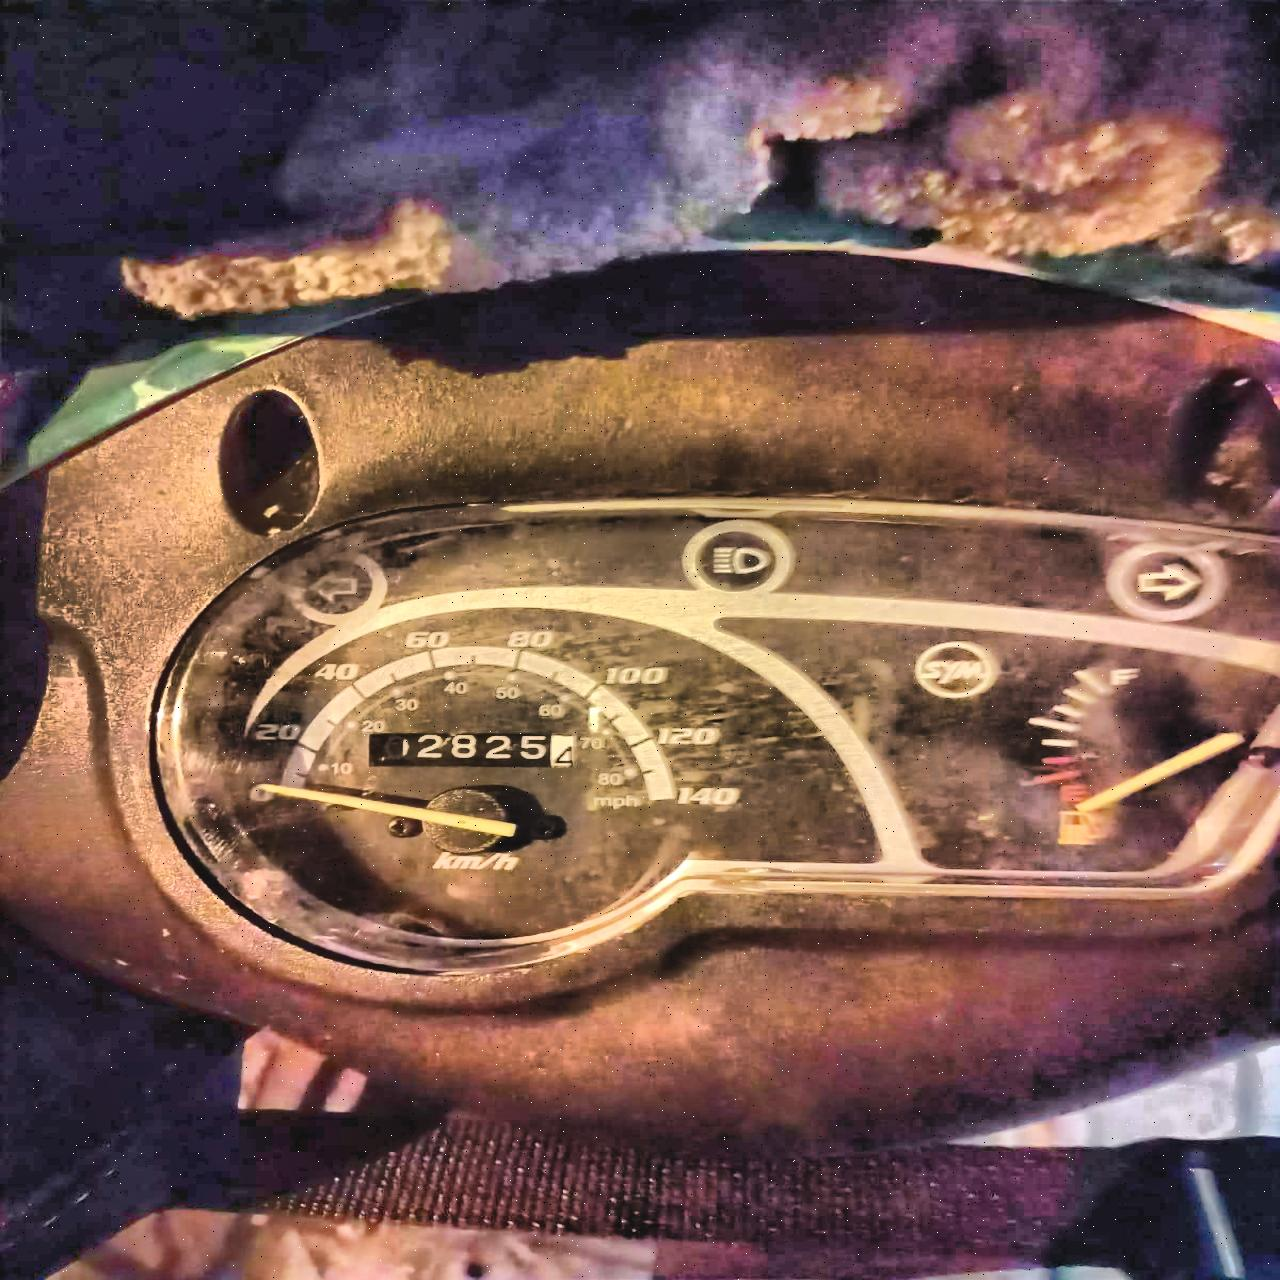0: (382, 733, 408, 760)
2: (482, 734, 511, 761), (416, 733, 444, 760)
4: (552, 744, 573, 765)
5: (518, 735, 547, 760)
8: (449, 733, 477, 758)
odometer: (367, 731, 576, 769)
